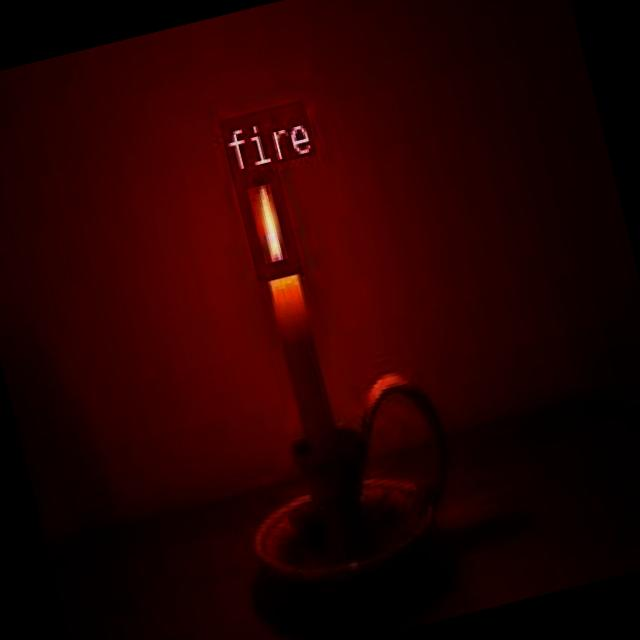fire: (230, 163, 298, 279)
